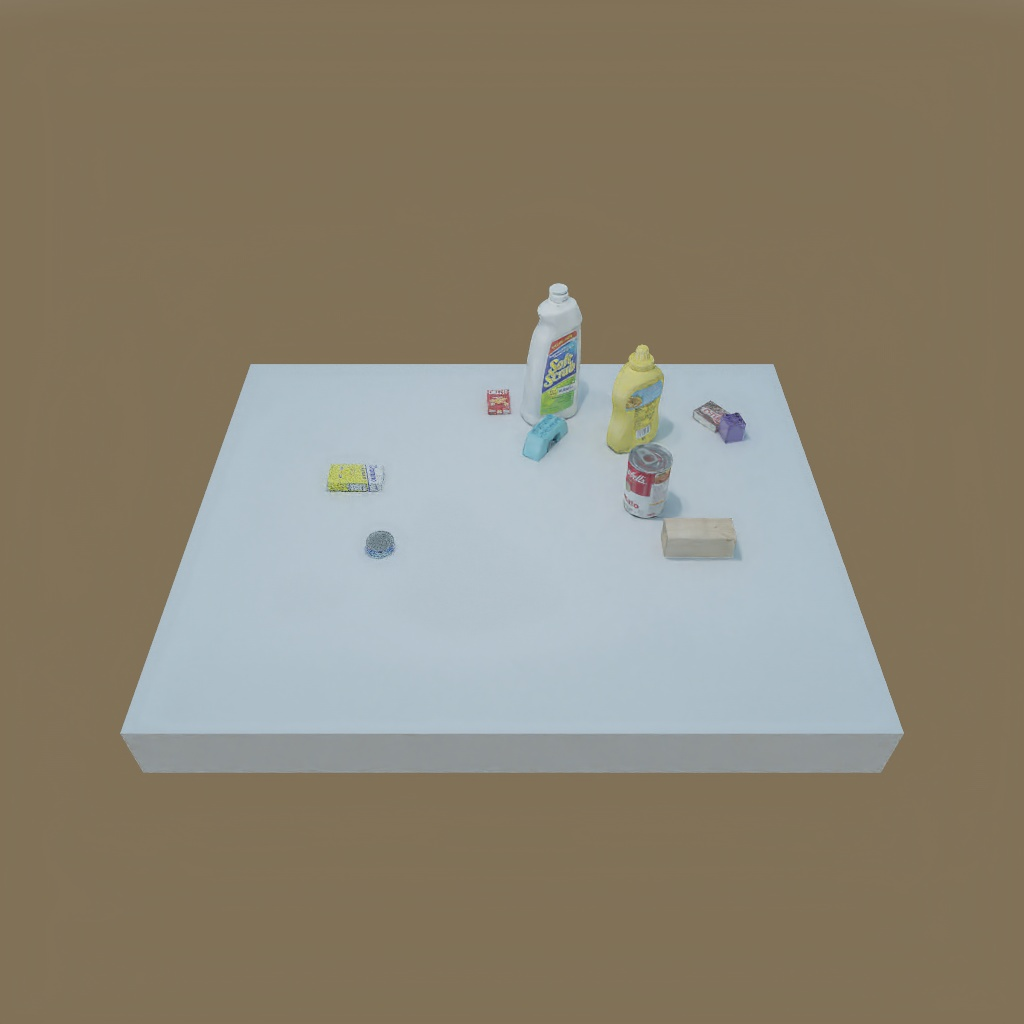mustard_bottle: (608, 342, 663, 454)
pudding_box: (690, 397, 726, 430)
tomato_soup_can: (621, 444, 672, 520)
wood_block: (658, 515, 741, 563)
